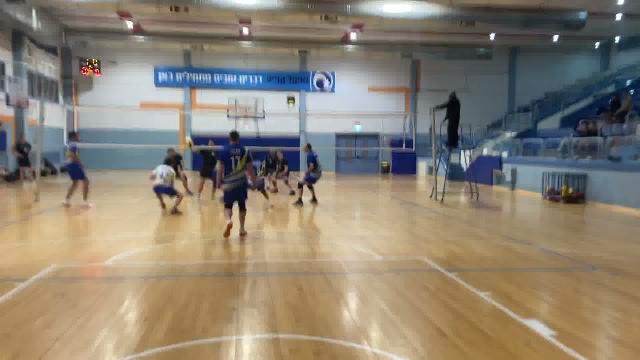ball: (184, 139, 196, 153)
